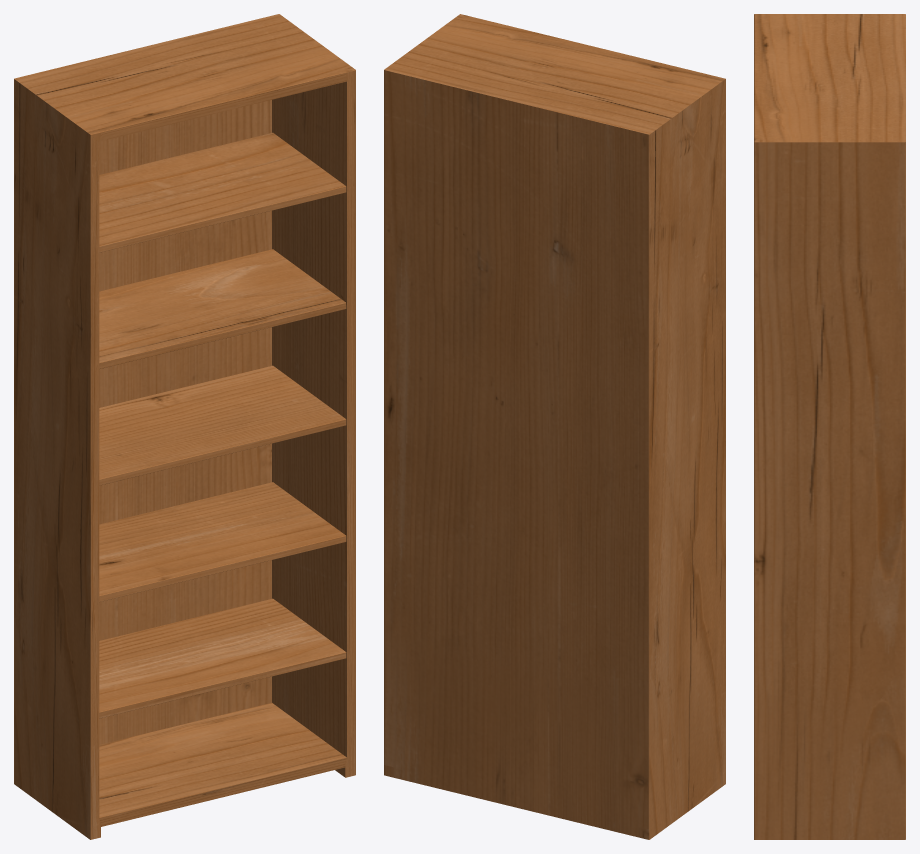
Rendered from Shelf 001.fbx.
The picture shows the model from 3 angles, left to right: view 1: azimuth 30°, elevation 25°; view 2: azimuth 150°, elevation 25°; view 3: azimuth 270°, elevation 25°; orthographic projection.
Visible parts, largest first — view 1: Cube, Cube.001, Cube.003, Cube.005, Cube.002, Cube.004; view 2: Cube; view 3: Cube.
Part boxes in pixels (x1,y1,x2,y2): Cube: (14, 14, 355, 839); Cube.001: (99, 132, 346, 252); Cube.003: (99, 365, 346, 485); Cube.005: (99, 598, 346, 718); Cube.002: (99, 249, 346, 368); Cube.004: (99, 482, 346, 601); Cube: (384, 14, 725, 839); Cube: (754, 14, 905, 839).
Bounding box in the file's own units: 80 × 203 × 40.
